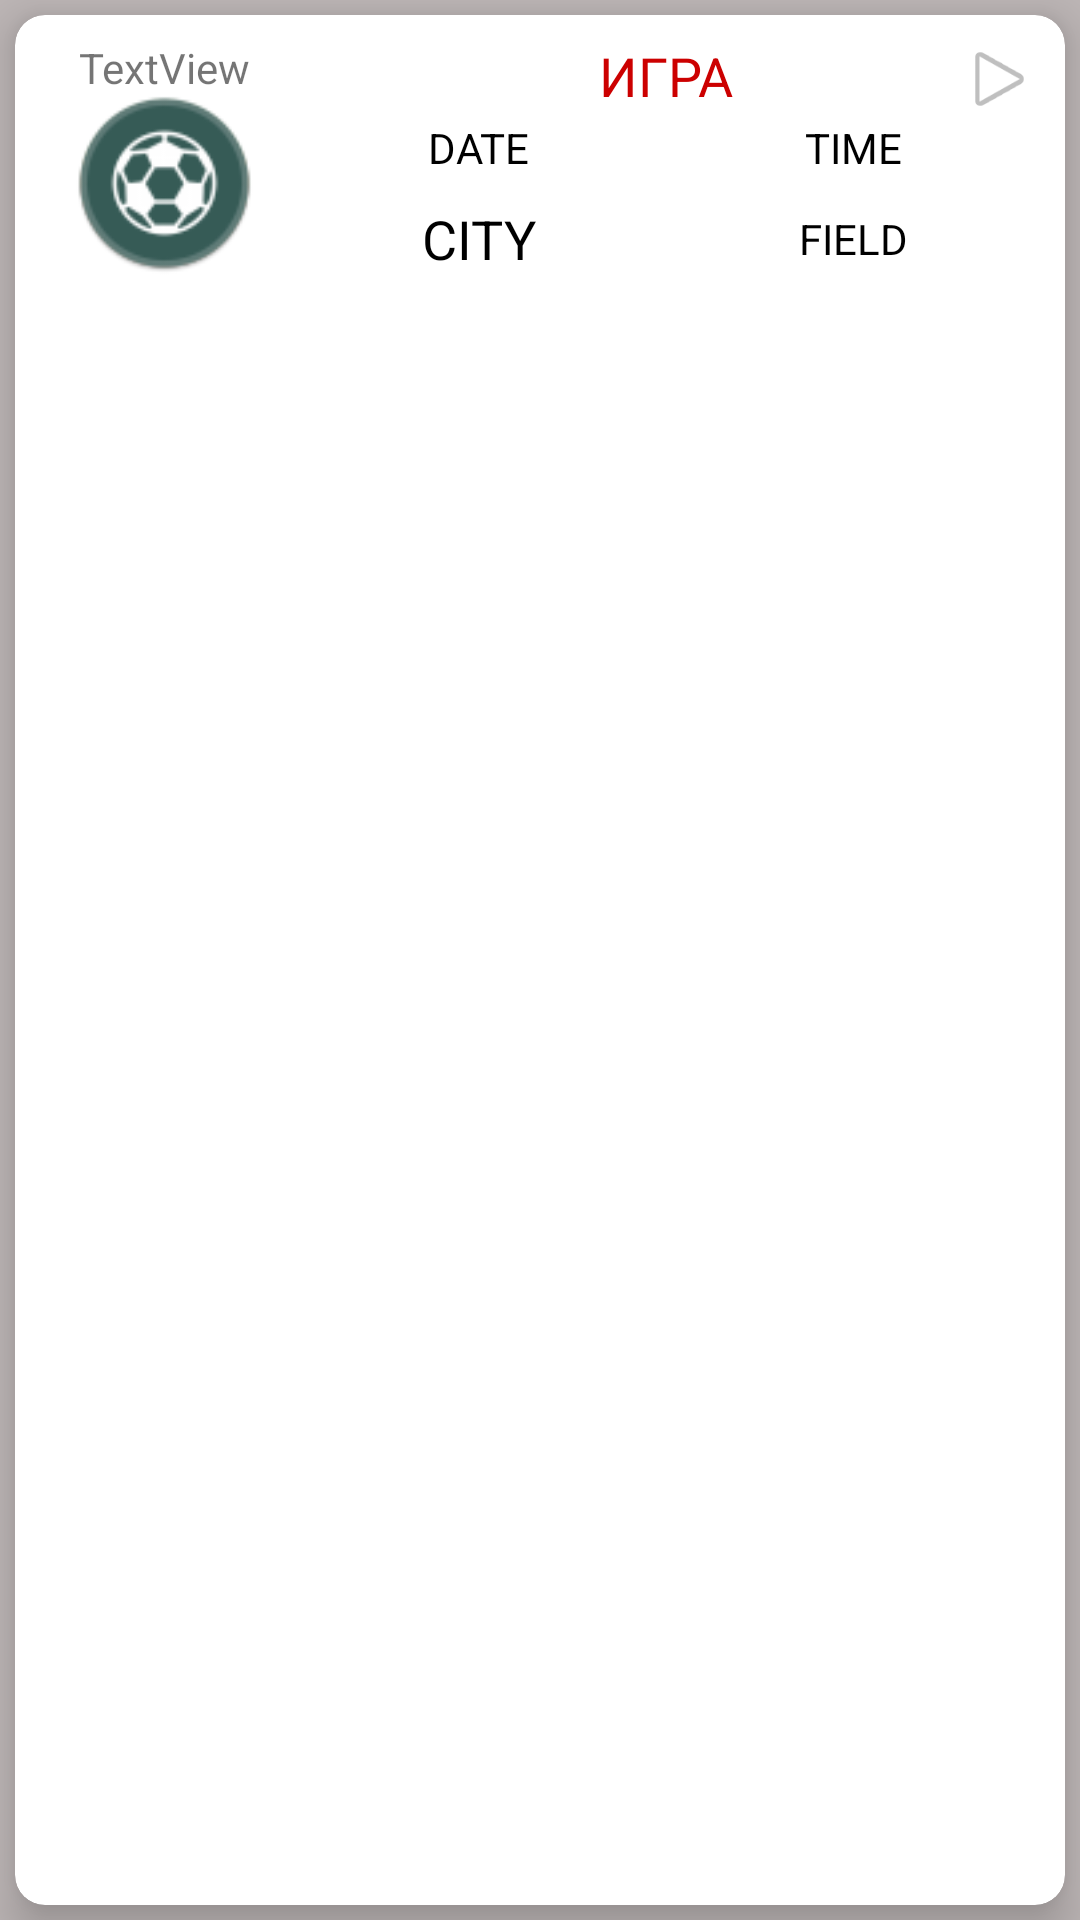

Where icons sit on this 1080 x 1920 app screen, as [left=x1, top=y1, right=x2, bottom=y2]:
football ball: [left=78, top=97, right=251, bottom=270]
play: [left=975, top=52, right=1024, bottom=106]
